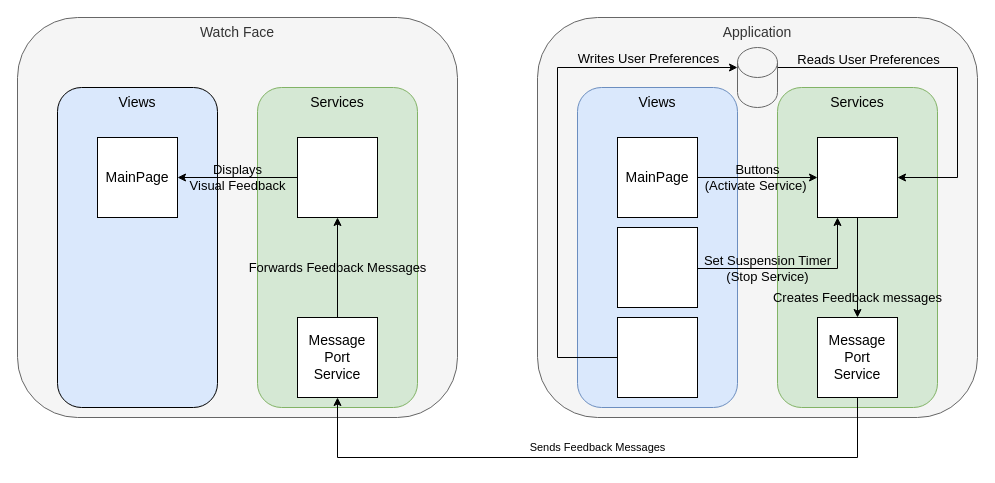
This 995x483 diagram has some shape labels left out. The shapes that lost their labels are listed below. From the top down, each one's centre as x and y in pixels, then its label:
the point at 757,77: DB
the point at 337,177: Feedback Service
the point at 857,177: Random Sensing Service
the point at 657,267: Monitoring Settings Page
the point at 657,357: Feedback Settings Pages
